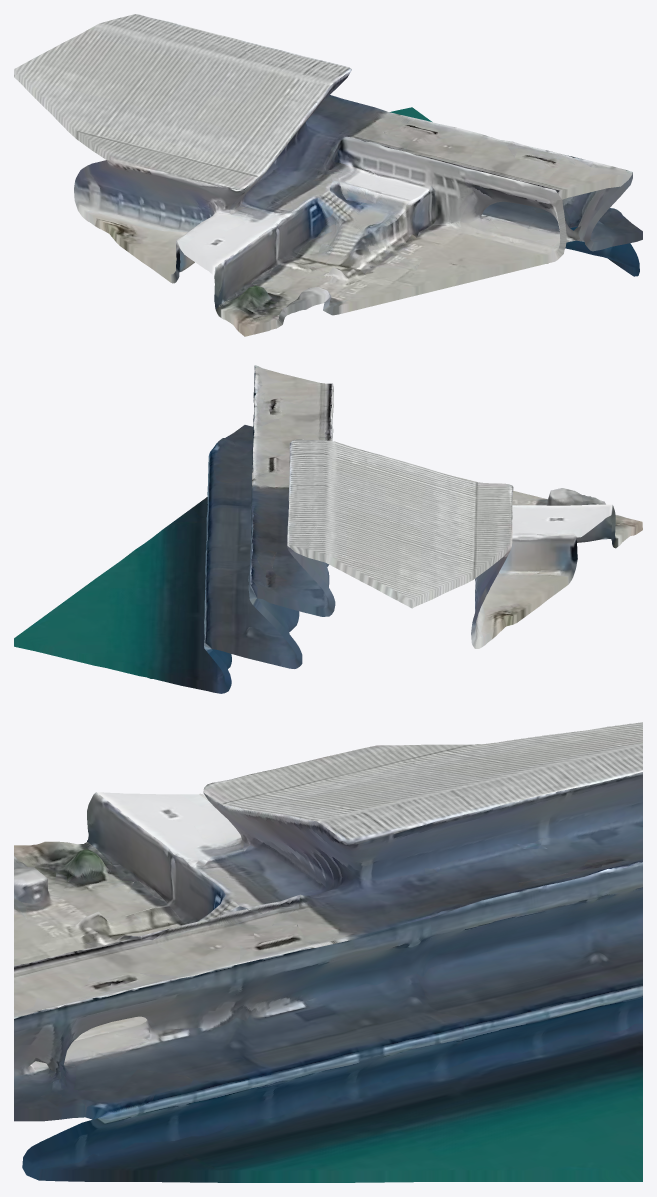
File: z20-167794-405219-h0-yup-uvflip-v3-world.glb
3 views of the same model, one above another, from view 1: azimuth 30°, elevation 25°; view 2: azimuth 150°, elevation 25°; view 3: azimuth 270°, elevation 25° (orthographic). The views are drawn at different scales.
Size of the model in its own units: 30.2 by 12.28 by 30.32.
Materials: 1 (1 with a texture image).
